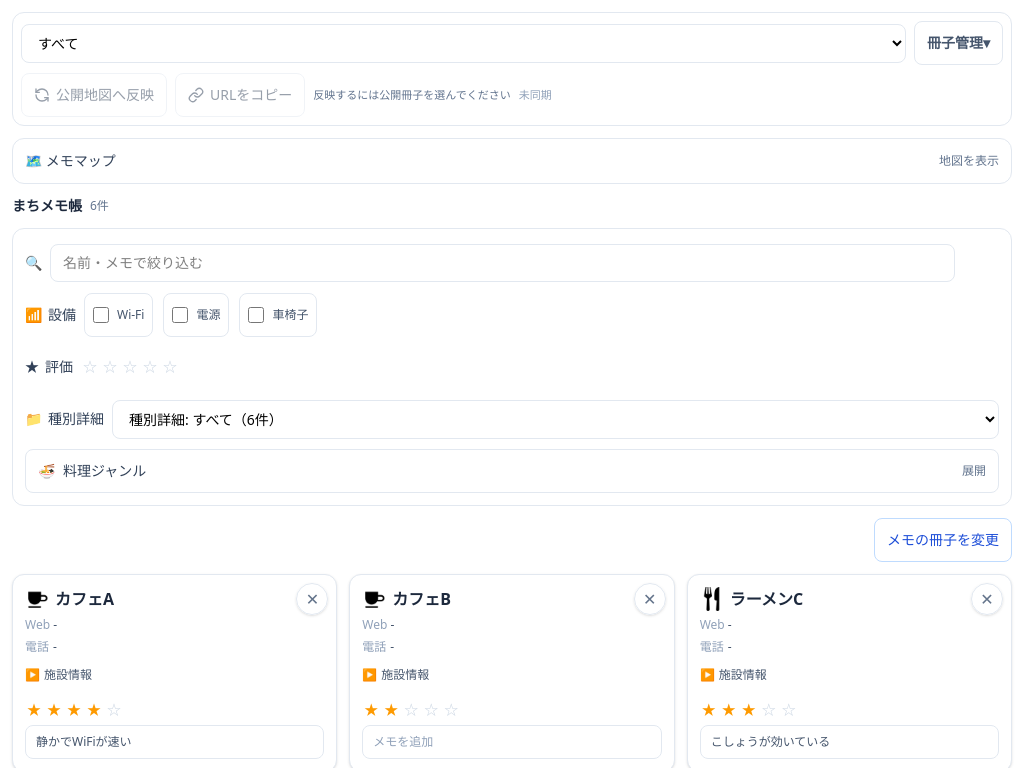
it: MemochoSection: フィルタバー › 複数条件は AND で適用される（キーワード ＋ ★評価 ＝ 両方一致のものだけ）
In the field labelled "名前・メモで絞り込む": (502, 263) [50,244,955,282], type "ラーメン"
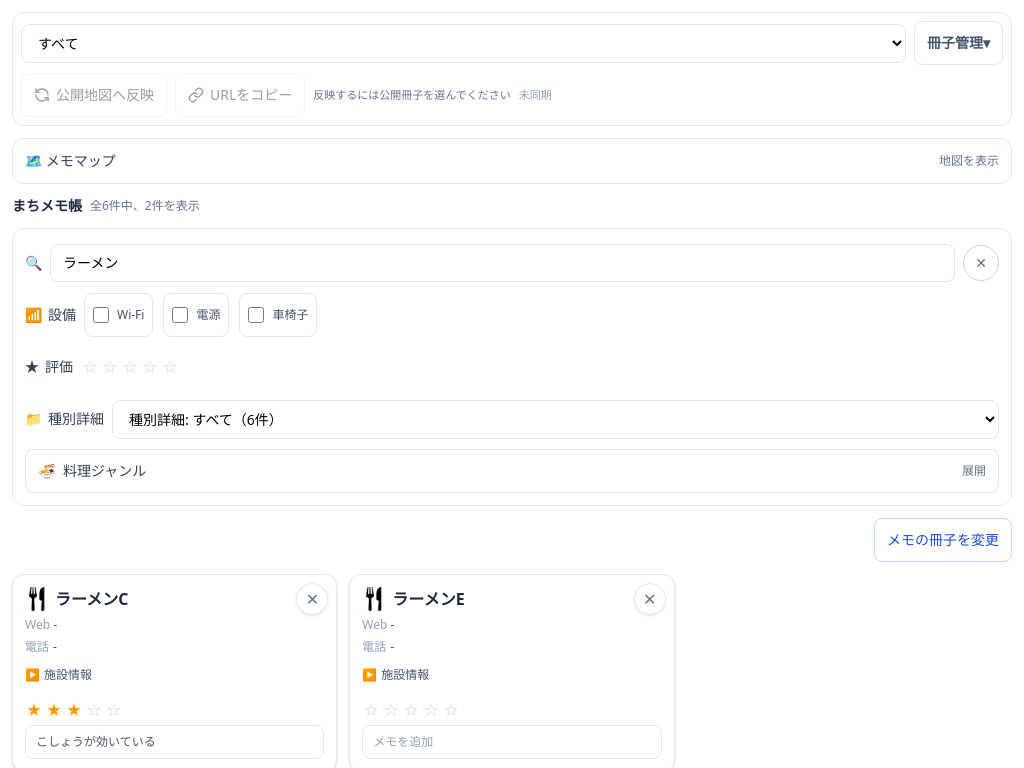
Click the button named "★1以上で絞り込む": (90, 367) [81,358,99,376]
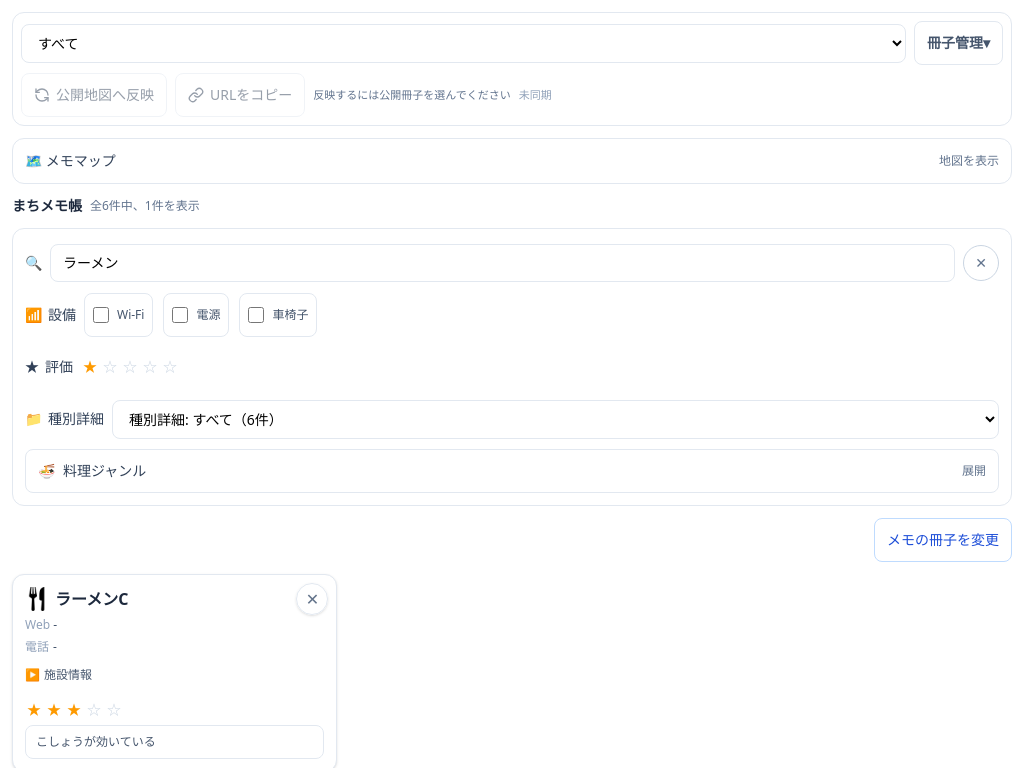
Expected: the heading "ラーメンC" is shown, [55,587,129,611]
Now the heading "ラーメンE" is gone
Now the text "全6件中、1件を表示" is shown, box [90,198,200,214]
